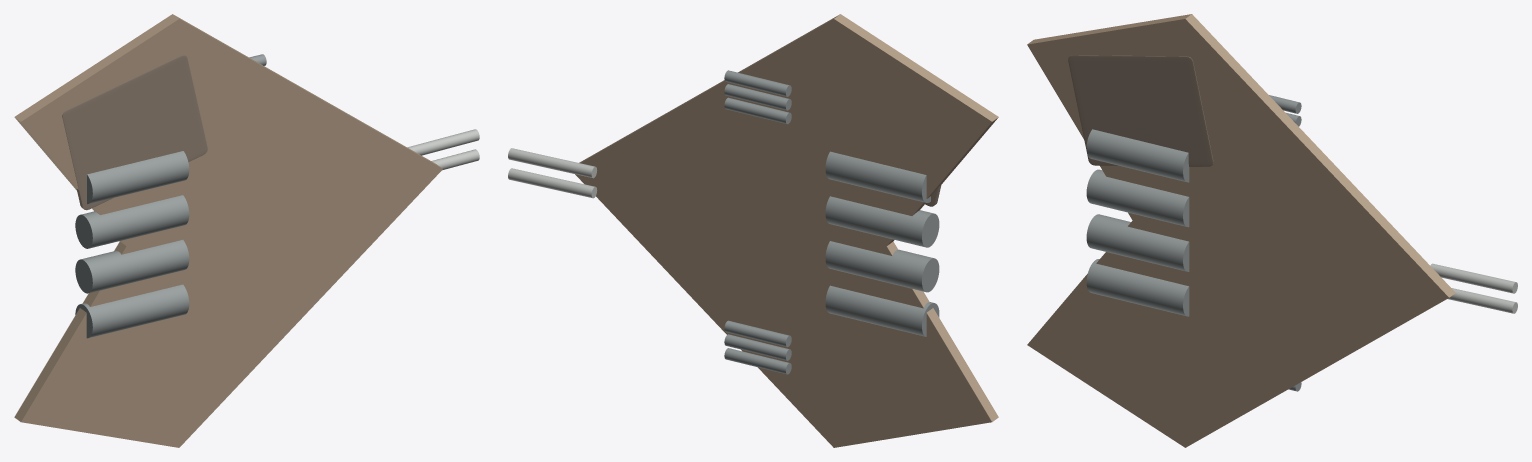
Rendered from d-u27-dominion-heavy-bomber-lod2.glb.
The picture shows the model from 3 angles, left to right: view 1: azimuth 30°, elevation 25°; view 2: azimuth 150°, elevation 25°; view 3: azimuth 330°, elevation 25°; orthographic projection.
Parts seen in each view (by area): view 1: flying_wing_planform, flying_wing_elevon_1, flying_wing_engine_1, flying_wing_engine_2, flying_wing_engine_0, flying_wing_engine_3, flying_wing_gun_barrel_1, flying_wing_gun_barrel_0; view 2: flying_wing_planform, flying_wing_engine_1, flying_wing_engine_2, flying_wing_engine_0, flying_wing_engine_3, flying_wing_gun_barrel_0, flying_wing_gun_barrel_1, flying_wing_-1_tube_2, flying_wing_1_tube_3, flying_wing_-1_tube_3, flying_wing_1_tube_2, flying_wing_-1_tube_1 (+1 smaller); view 3: flying_wing_planform, flying_wing_elevon_1, flying_wing_engine_1, flying_wing_engine_2, flying_wing_engine_0, flying_wing_engine_3, flying_wing_gun_barrel_1, flying_wing_gun_barrel_0.
Boxes of the visible parts, bbox=[...] form: flying_wing_planform: bbox=[14, 14, 442, 447]; flying_wing_elevon_1: bbox=[62, 55, 207, 210]; flying_wing_engine_1: bbox=[75, 240, 189, 293]; flying_wing_engine_2: bbox=[75, 195, 189, 248]; flying_wing_engine_0: bbox=[75, 284, 189, 338]; flying_wing_engine_3: bbox=[87, 151, 189, 204]; flying_wing_gun_barrel_1: bbox=[407, 129, 479, 155]; flying_wing_gun_barrel_0: bbox=[431, 149, 479, 170]; flying_wing_planform: bbox=[575, 14, 998, 447]; flying_wing_engine_1: bbox=[825, 241, 939, 292]; flying_wing_engine_2: bbox=[825, 196, 939, 247]; flying_wing_engine_0: bbox=[825, 285, 939, 336]; flying_wing_engine_3: bbox=[825, 151, 930, 202]; flying_wing_gun_barrel_0: bbox=[508, 168, 597, 198]; flying_wing_gun_barrel_1: bbox=[508, 148, 597, 178]; flying_wing_-1_tube_2: bbox=[724, 334, 791, 360]; flying_wing_1_tube_3: bbox=[724, 70, 791, 96]; flying_wing_-1_tube_3: bbox=[724, 320, 791, 347]; flying_wing_1_tube_2: bbox=[724, 84, 791, 110]; flying_wing_-1_tube_1: bbox=[724, 348, 791, 374]; flying_wing_planform: bbox=[1027, 14, 1455, 447]; flying_wing_elevon_1: bbox=[1068, 55, 1213, 166]; flying_wing_engine_1: bbox=[1086, 214, 1189, 271]; flying_wing_engine_2: bbox=[1086, 169, 1189, 227]; flying_wing_engine_0: bbox=[1086, 259, 1189, 316]; flying_wing_engine_3: bbox=[1086, 129, 1189, 182]; flying_wing_gun_barrel_1: bbox=[1430, 263, 1517, 293]; flying_wing_gun_barrel_0: bbox=[1448, 288, 1517, 313].
Size of what is drawn, in the model's own units: 19.58 by 17 by 1.83.
